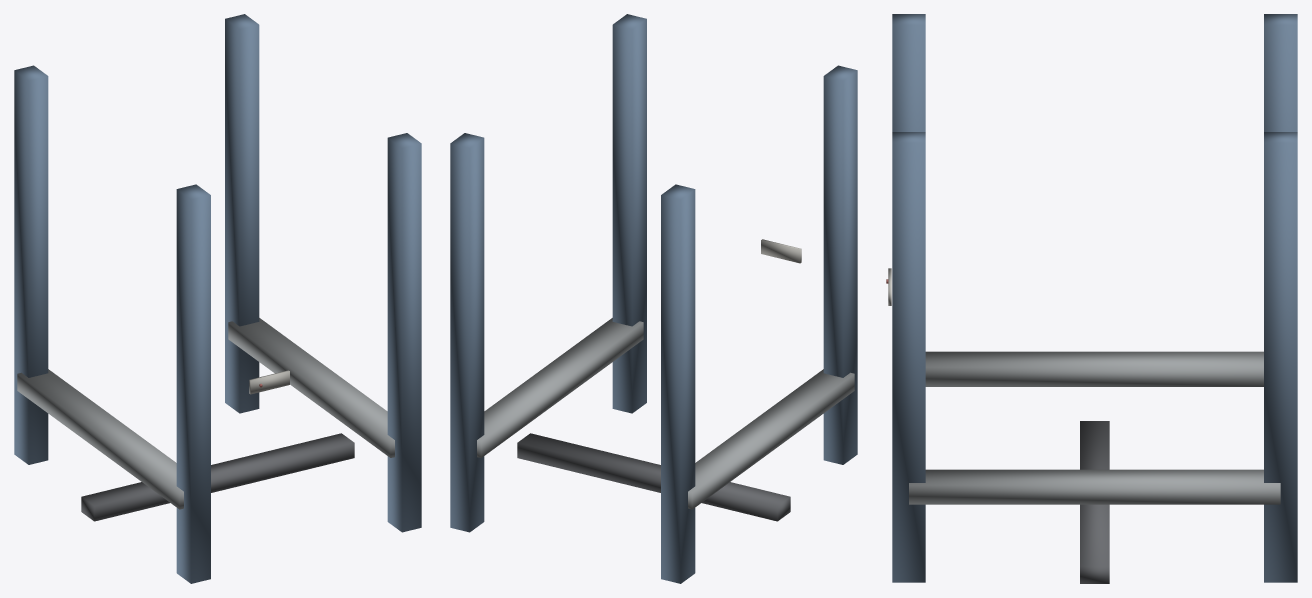
File: four_post_car_lift__tall.glb
3 renders of one model, left to right at view 1: azimuth 30°, elevation 25°; view 2: azimuth 150°, elevation 25°; view 3: azimuth 270°, elevation 25°, orthographic. The views are drawn at different scales.
Parts seen in each view (by area): view 1: world; view 2: world; view 3: world.
Boxes of the visible parts, bbox=[...] form: world: bbox=[14, 14, 421, 583]; world: bbox=[450, 14, 857, 583]; world: bbox=[886, 14, 1297, 583].
Size of the model in its own units: 1.85 by 2.61 by 2.21.
